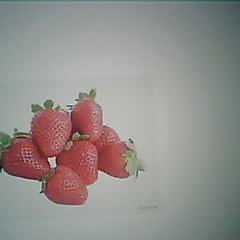straw-ripe: (3, 133, 49, 180), (33, 109, 72, 155), (58, 141, 98, 183), (46, 166, 89, 205), (72, 99, 103, 141), (98, 141, 132, 179)
